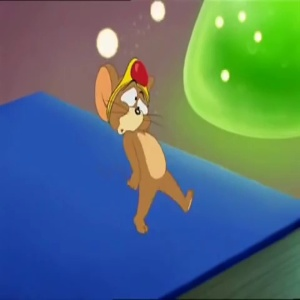Jerry: (97, 62, 163, 135)
